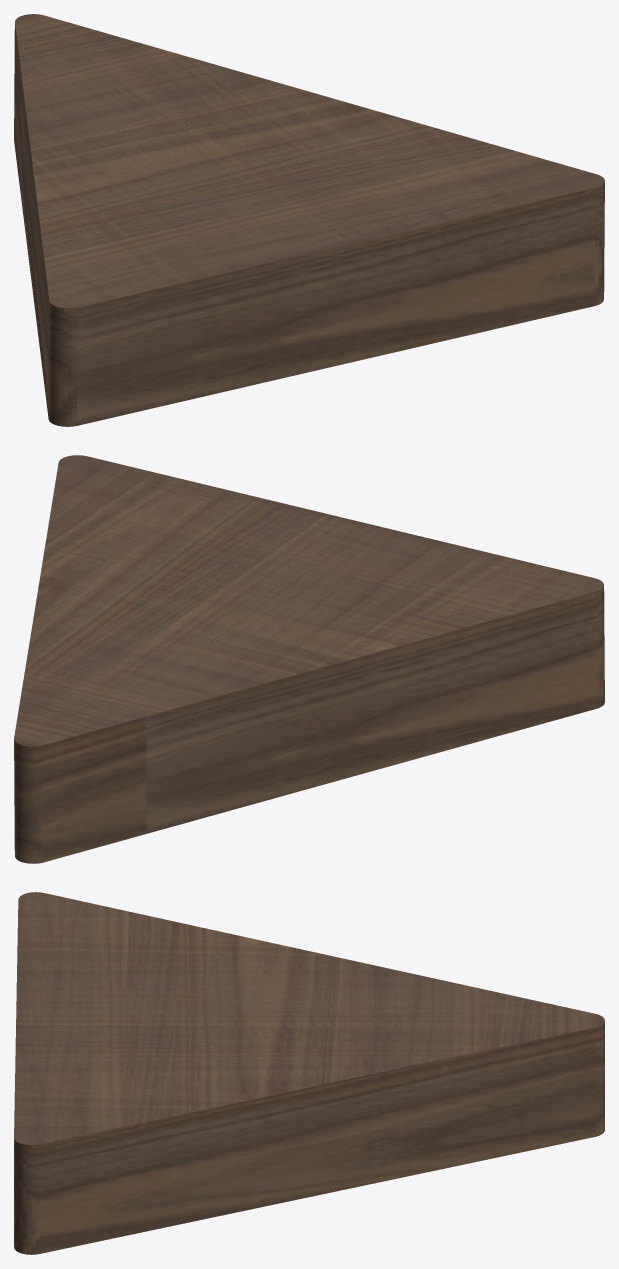
File: triangle_walnut.fbx
The picture shows the model from 3 angles, top to bottom: view 1: azimuth 30°, elevation 25°; view 2: azimuth 150°, elevation 25°; view 3: azimuth 270°, elevation 25°; orthographic projection. The views are drawn at different scales.
Visible parts, largest first — view 1: Model; view 2: Model; view 3: Model.
Part boxes in pixels (x1,y1,x2,y2): Model: [14, 14, 604, 426]; Model: [14, 455, 604, 863]; Model: [14, 892, 604, 1254].
Bounding box in the file's own units: 4.86 × 1.04 × 4.87.
